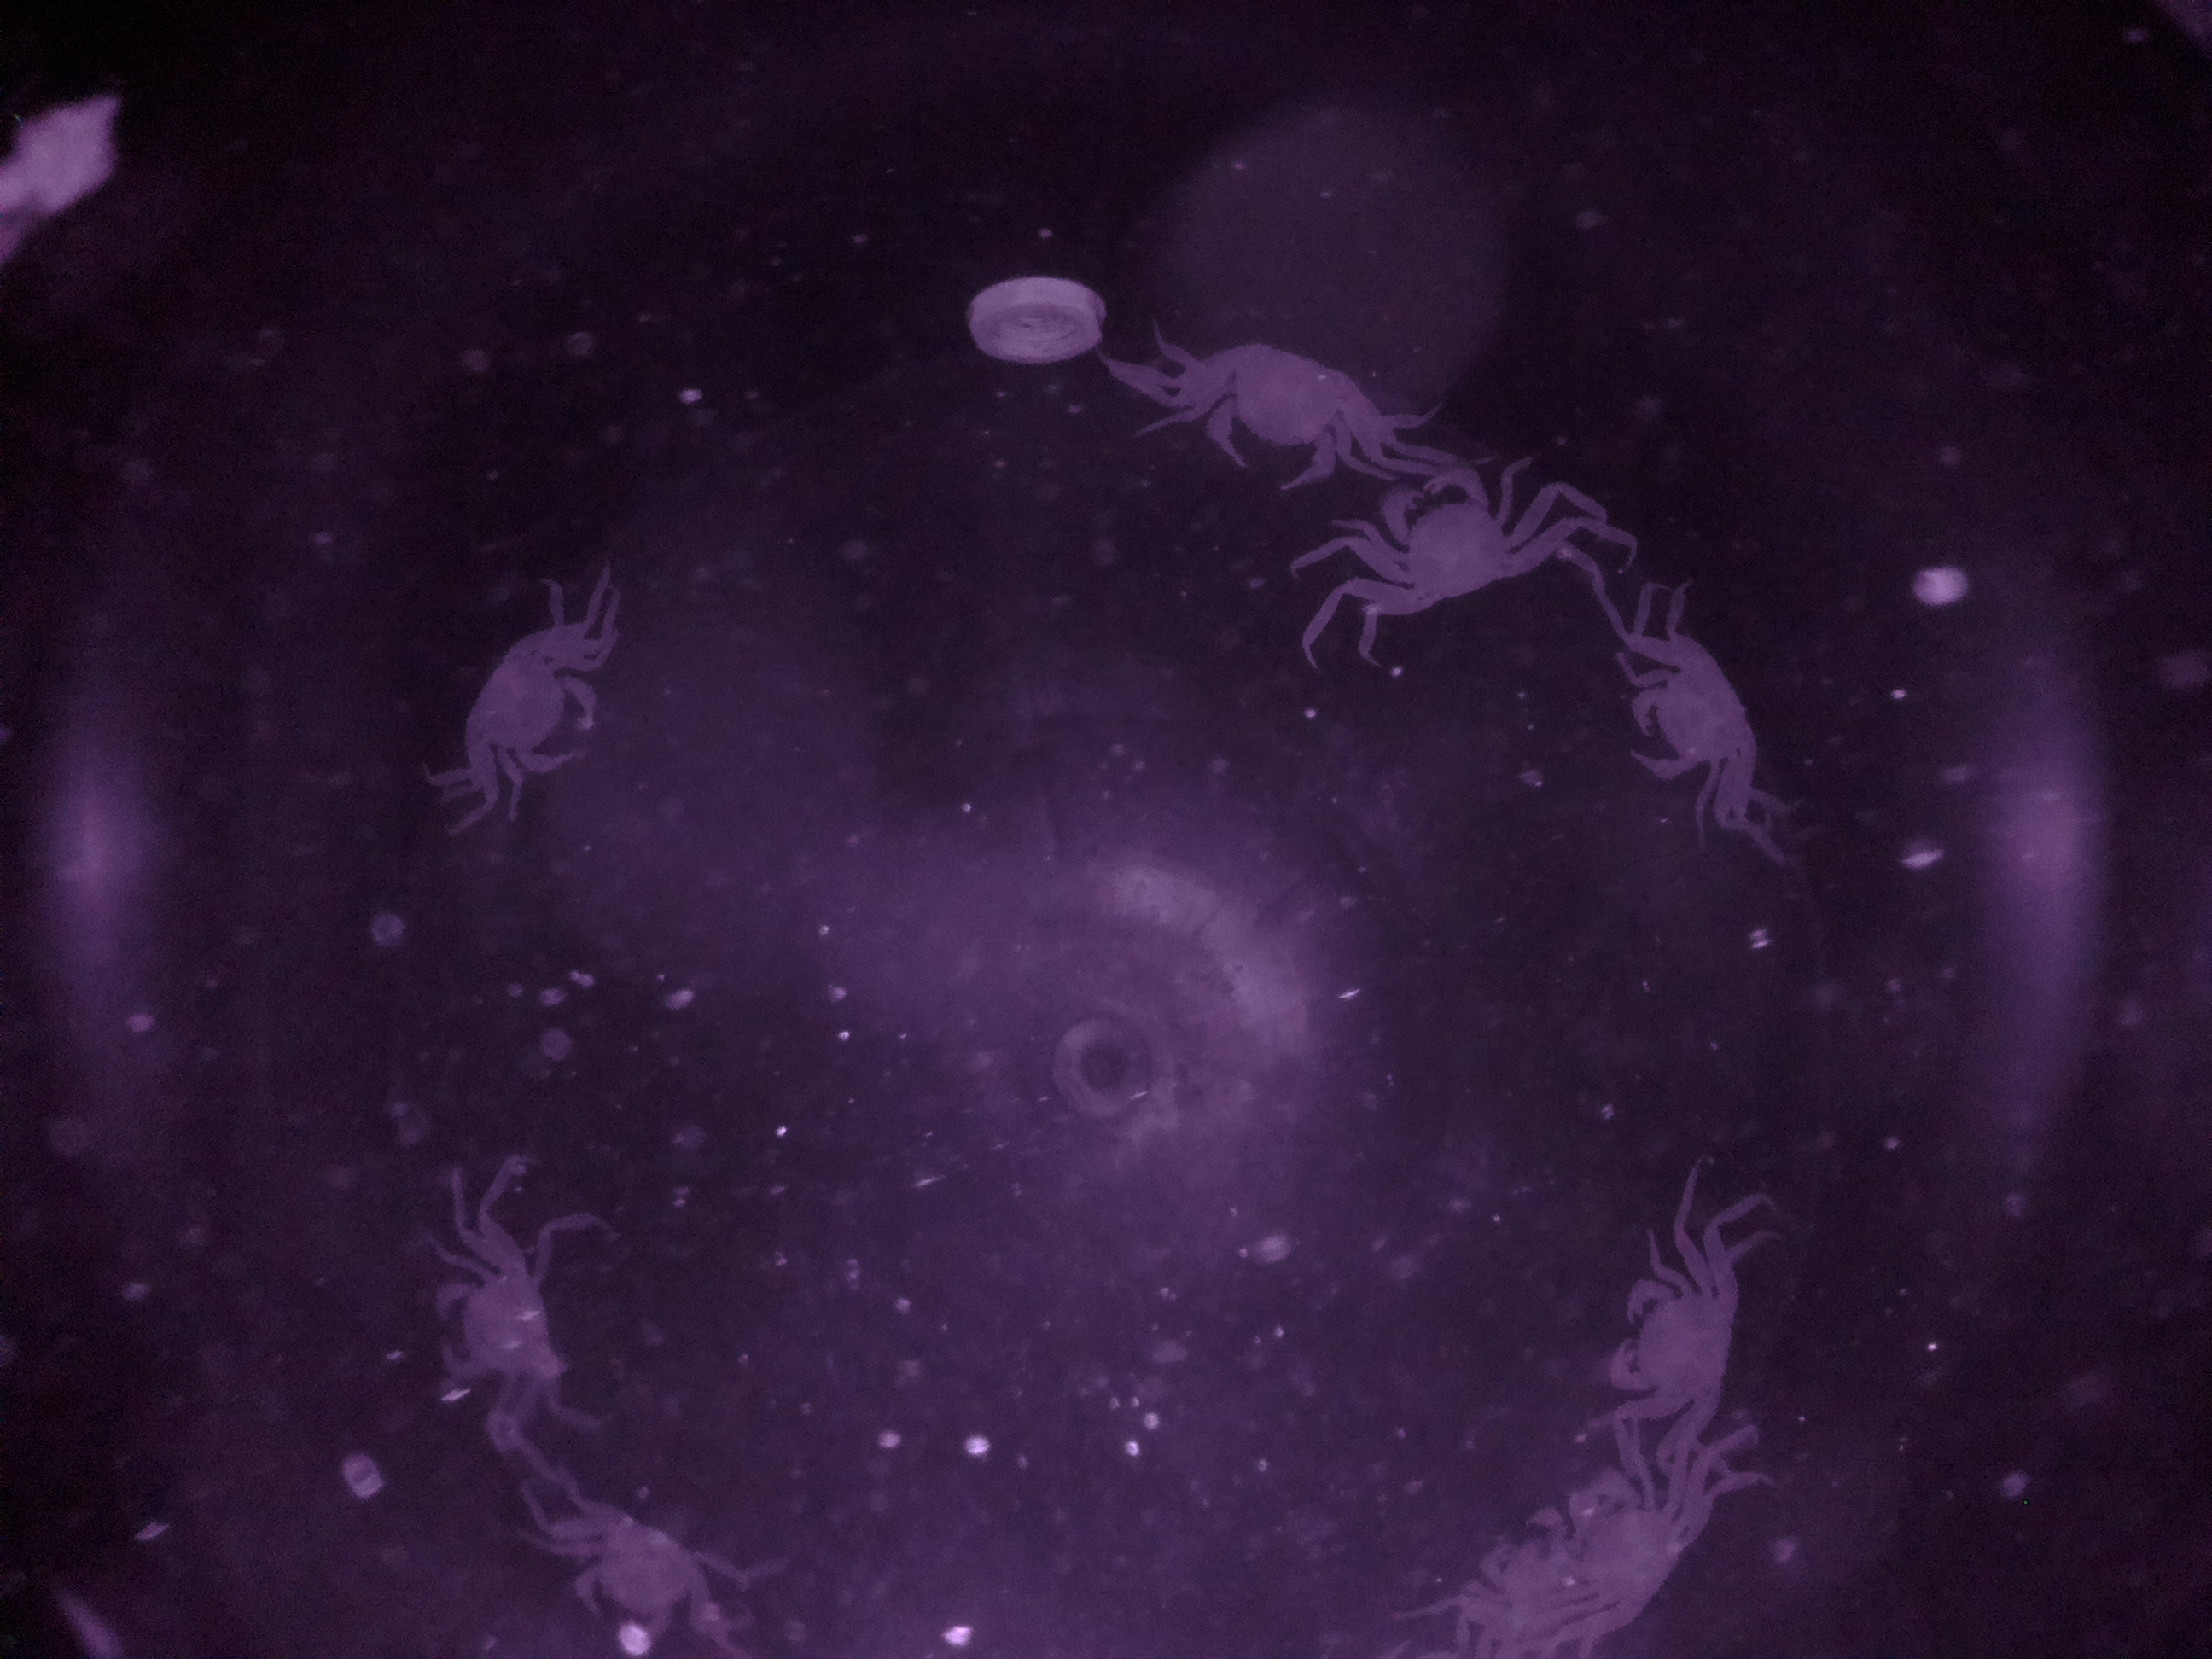Crab: (1160, 317, 1379, 509), (1590, 627, 1794, 817), (1583, 1230, 1756, 1443), (1362, 448, 1541, 636), (458, 612, 615, 810)
